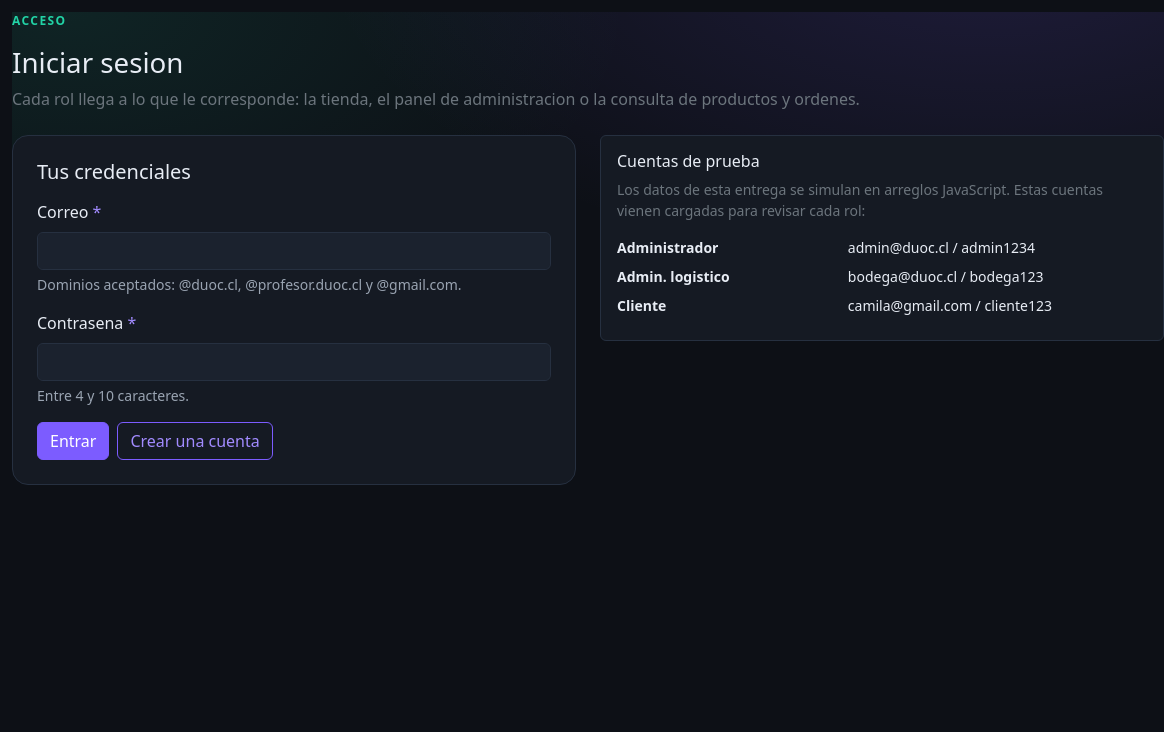
Test case: Login › enviar vacio muestra los errores de ambos campos y no inicia sesion
The width and height of the screenshot is (1164, 732).
Click the button "Entrar" at point(73, 441), box left=37, top=422, right=109, bottom=460
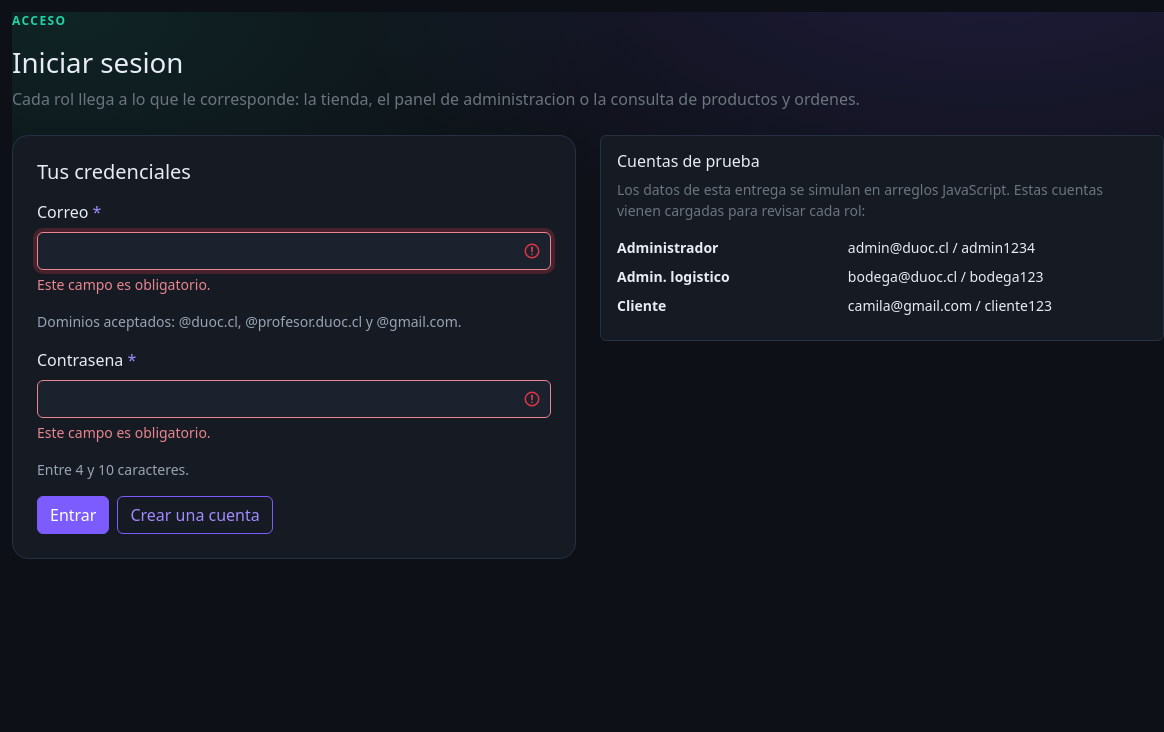
Expected: the heading "Iniciar sesion" is shown, left=12, top=43, right=184, bottom=81
Result: the text "Este campo es obligatorio." is shown 2 times at left=37, top=275, right=211, bottom=294; left=37, top=423, right=211, bottom=442
